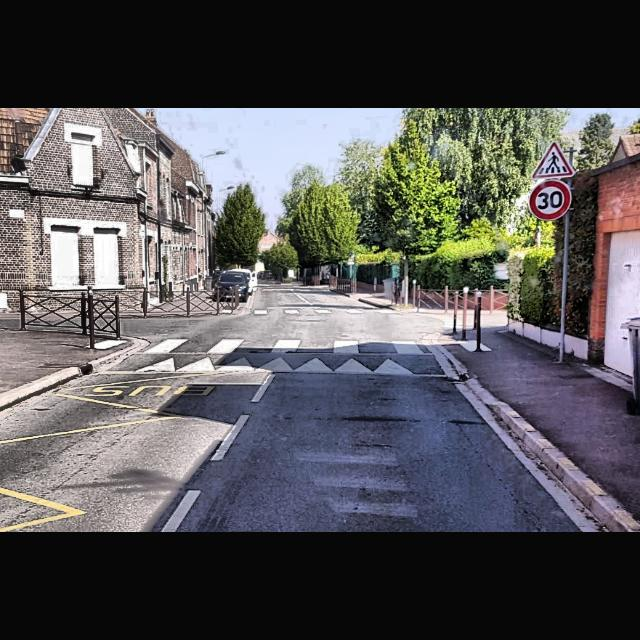speed_30: (529, 180, 571, 220)
